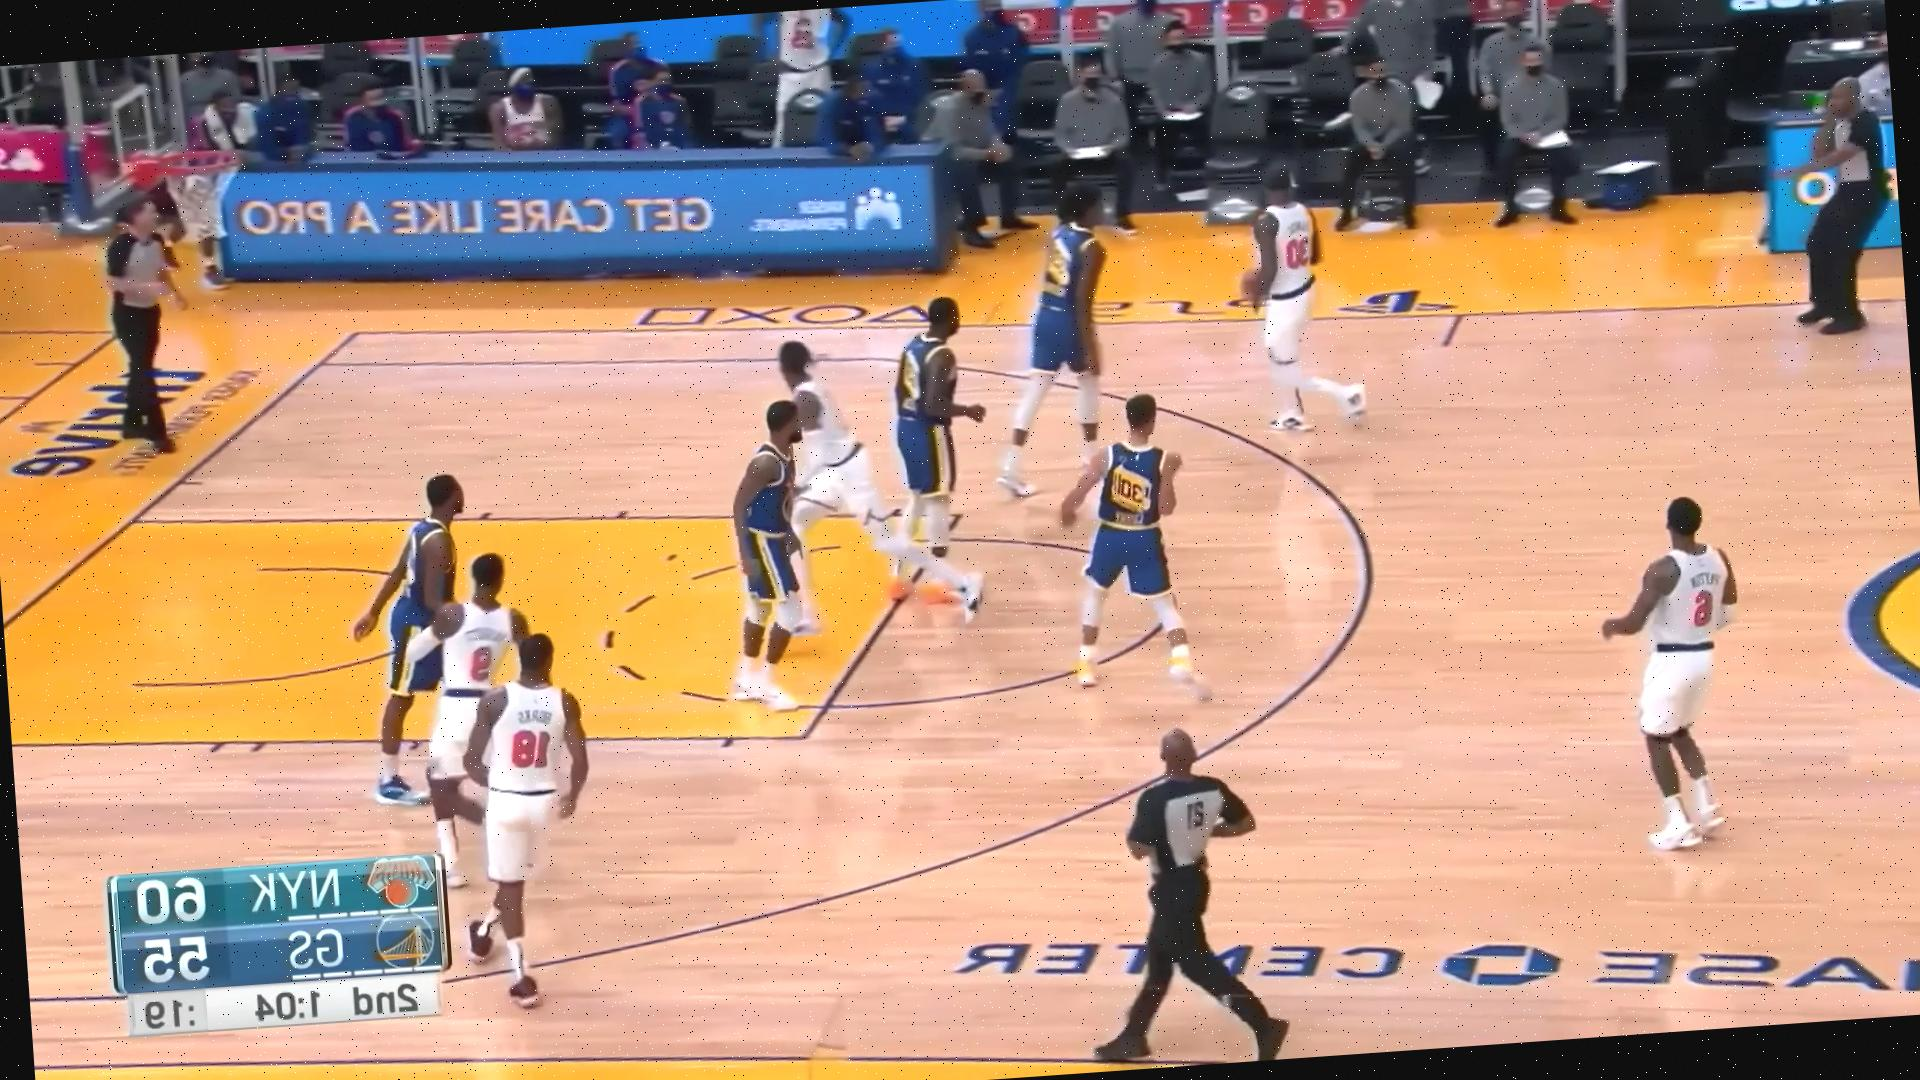no_foul: (654, 315, 916, 705)
